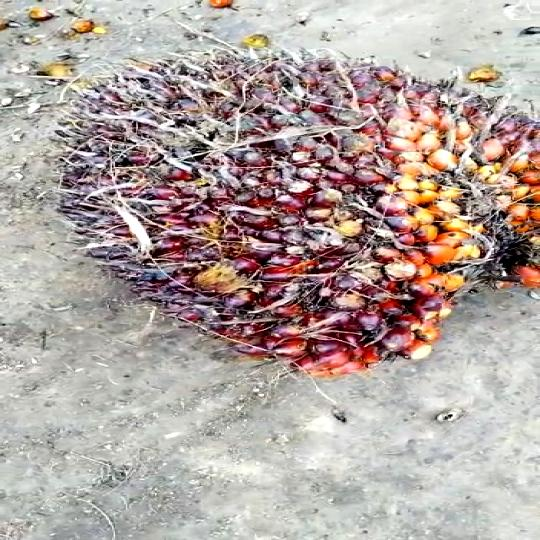masak: (35, 43, 540, 358)
